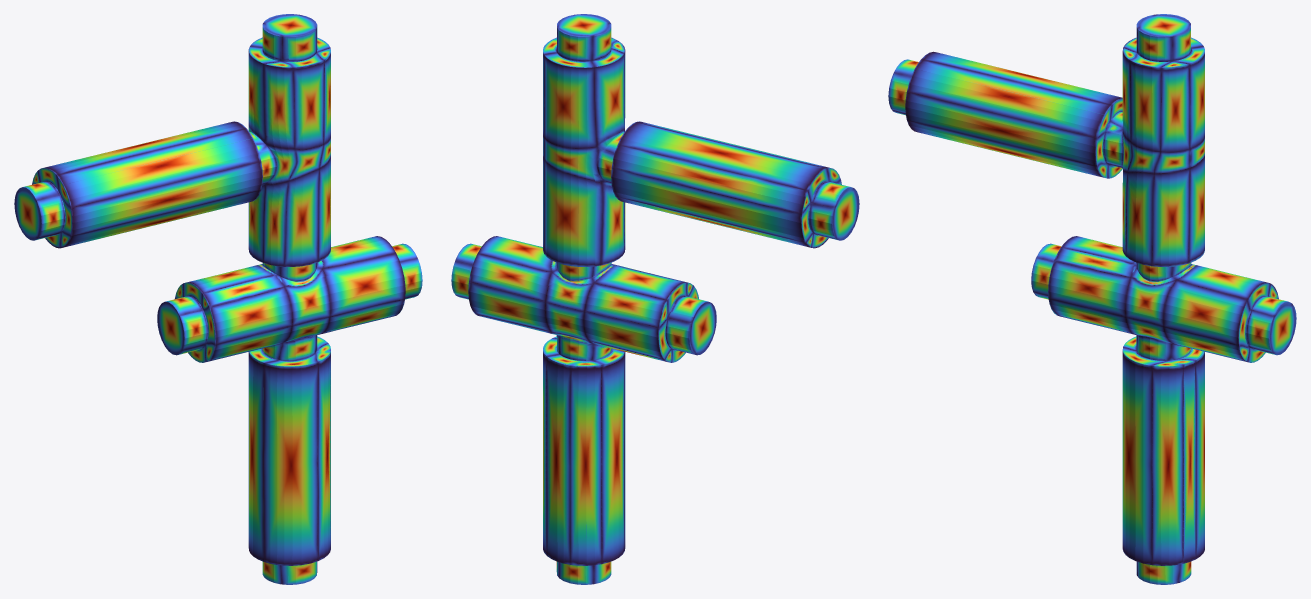
The model's file is gen2.glb.
3 views of the same model, side by side, from view 1: azimuth 30°, elevation 25°; view 2: azimuth 150°, elevation 25°; view 3: azimuth 330°, elevation 25° (orthographic).
Visible parts, largest first — view 1: Node; view 2: Node; view 3: Node.
Part boxes in pixels (x1,y1,x2,y2): Node: (14, 14, 422, 584); Node: (451, 14, 859, 584); Node: (888, 14, 1296, 584).
Bounding box in the file's own units: 320 × 440 × 60.
Materials: 1 (1 with a texture image).
